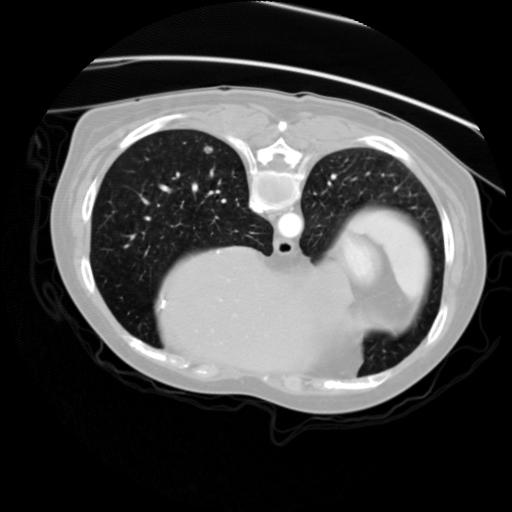nodule: (199, 142, 214, 157)
